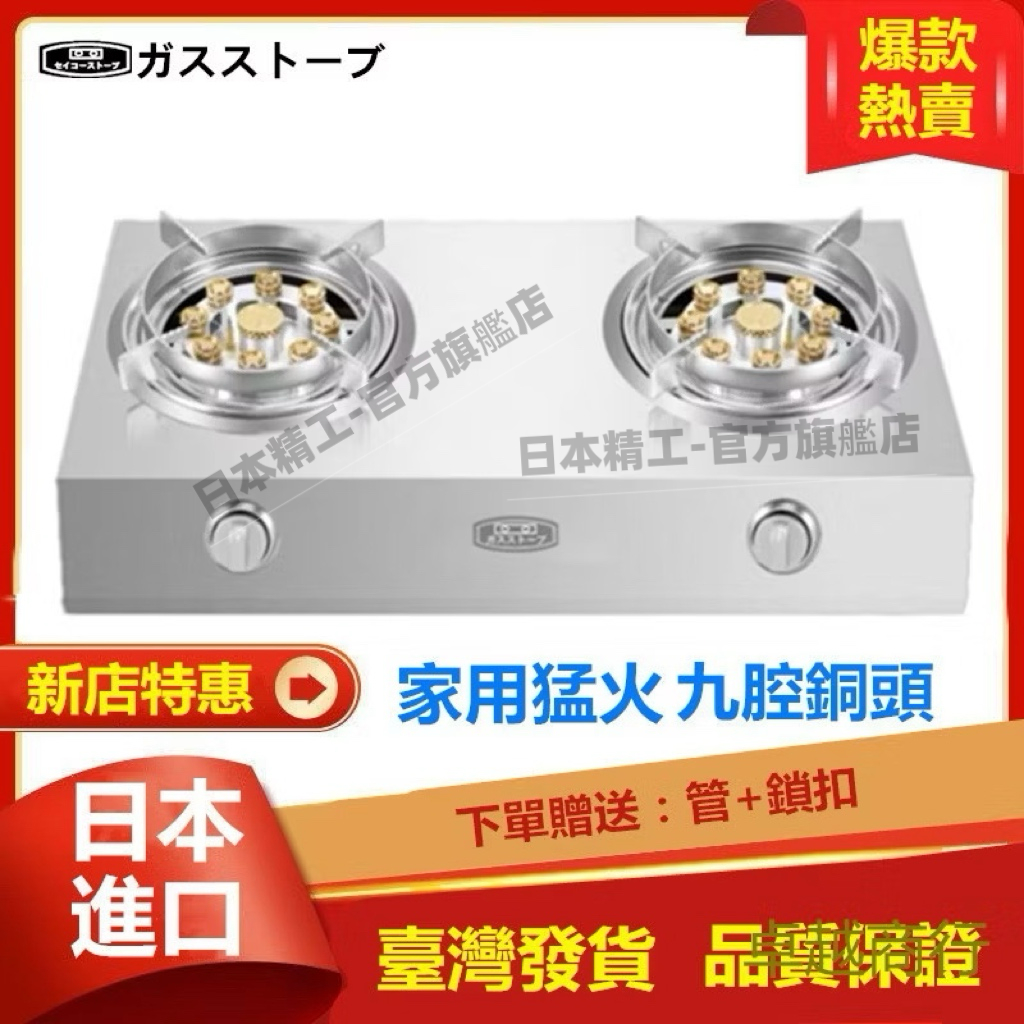gasoven: (42, 197, 983, 628)
